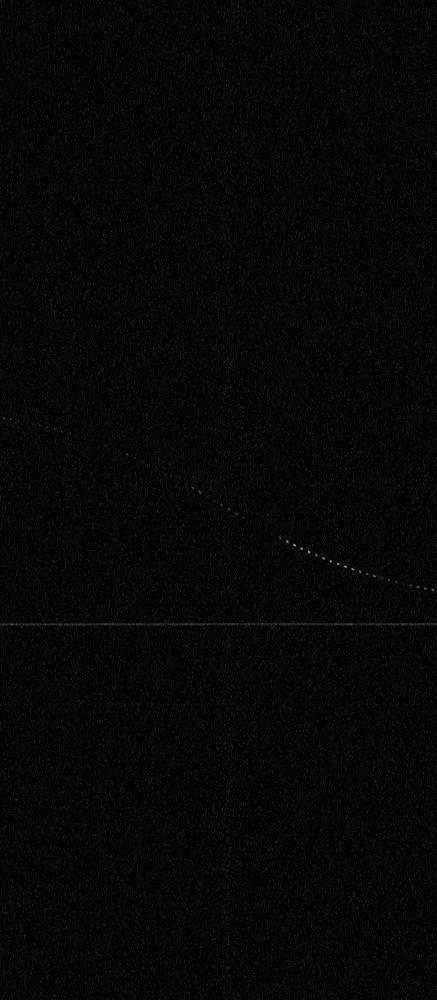signal: (0, 0, 436, 999)
